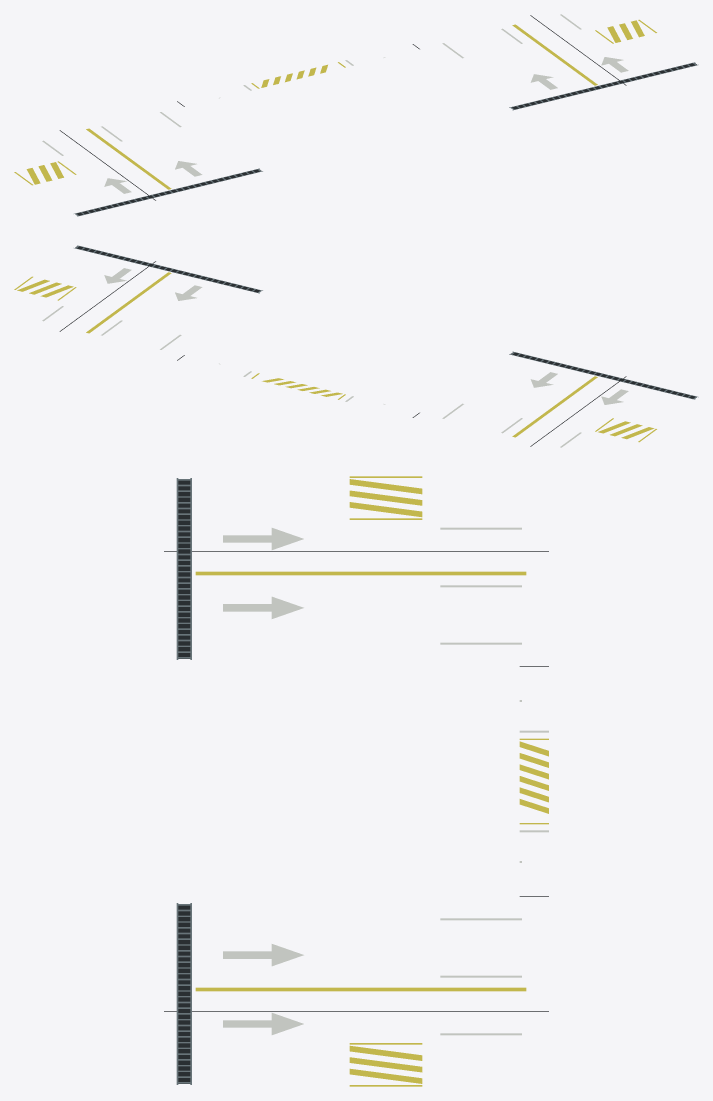
Rendered from sm_env_shed_yard_logistics.glb.
3 renders of one model, top to bottom at view 1: azimuth 30°, elevation 25°; view 2: azimuth 150°, elevation 25°; view 3: azimuth 270°, elevation 25°, orthographic. The views are drawn at different scales.
Visible parts, largest first — view 1: Lane, Lane.001; view 2: Lane, Lane.001; view 3: Lane, Lane.001.
Boxes of the visible parts, left/top/right/bottom form: Lane: left=86, top=128, right=171, bottom=189; Lane.001: left=512, top=24, right=597, bottom=85; Lane: left=512, top=376, right=597, bottom=437; Lane.001: left=86, top=272, right=171, bottom=333; Lane: left=195, top=571, right=526, bottom=575; Lane.001: left=195, top=987, right=526, bottom=991.
Bounding box in the file's own units: 31.88 × 0 × 8.5.
